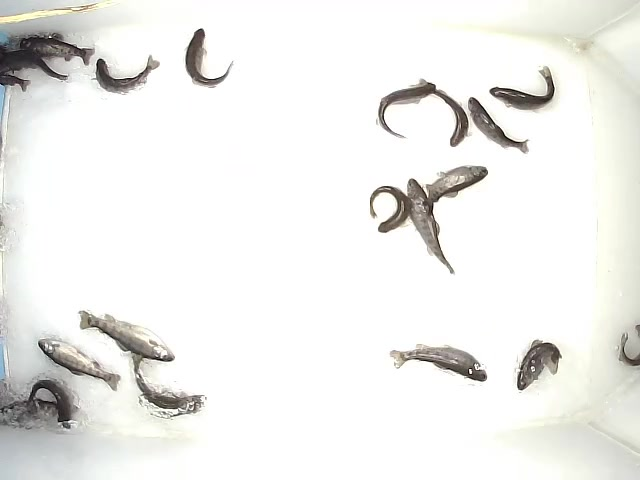fish: (129, 351, 209, 422), (77, 308, 177, 364), (405, 176, 457, 276), (36, 336, 122, 393), (408, 77, 473, 148), (388, 342, 488, 383), (374, 81, 438, 141), (467, 96, 530, 154), (184, 27, 236, 90), (488, 65, 557, 112), (25, 377, 82, 431), (91, 53, 162, 95), (18, 33, 95, 67), (425, 164, 490, 204), (515, 339, 564, 392), (368, 184, 413, 235), (1, 49, 70, 82), (618, 324, 640, 369), (1, 73, 32, 93)
